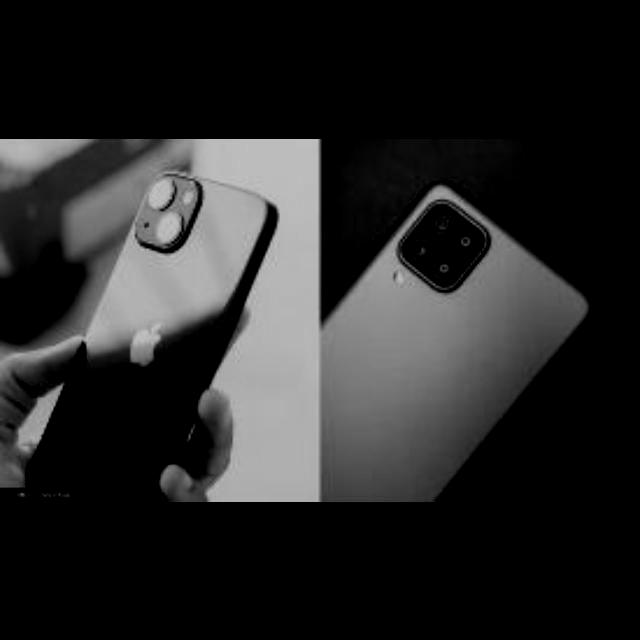fake: (20, 157, 292, 496), (338, 174, 609, 504)
